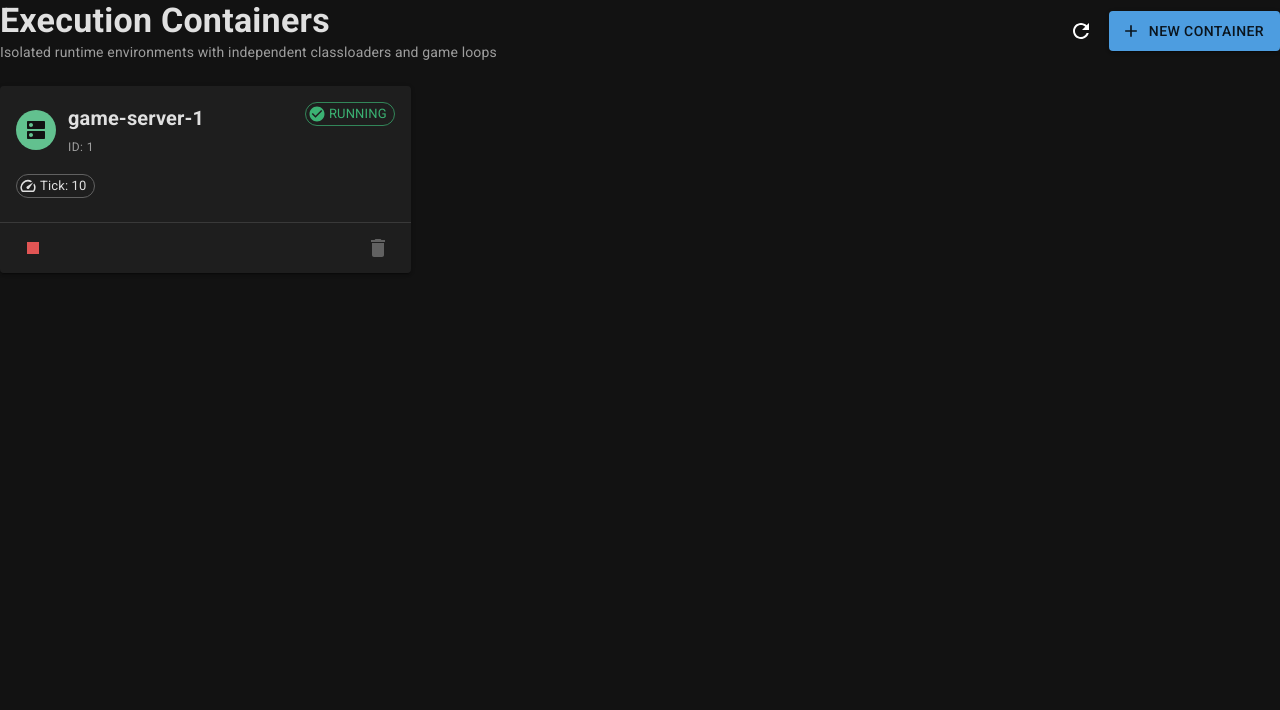
Test: ContainerDashboard › selects container when card is clicked
Click the text "game-server-1".
click(136, 118)  # box [68, 102, 204, 134]
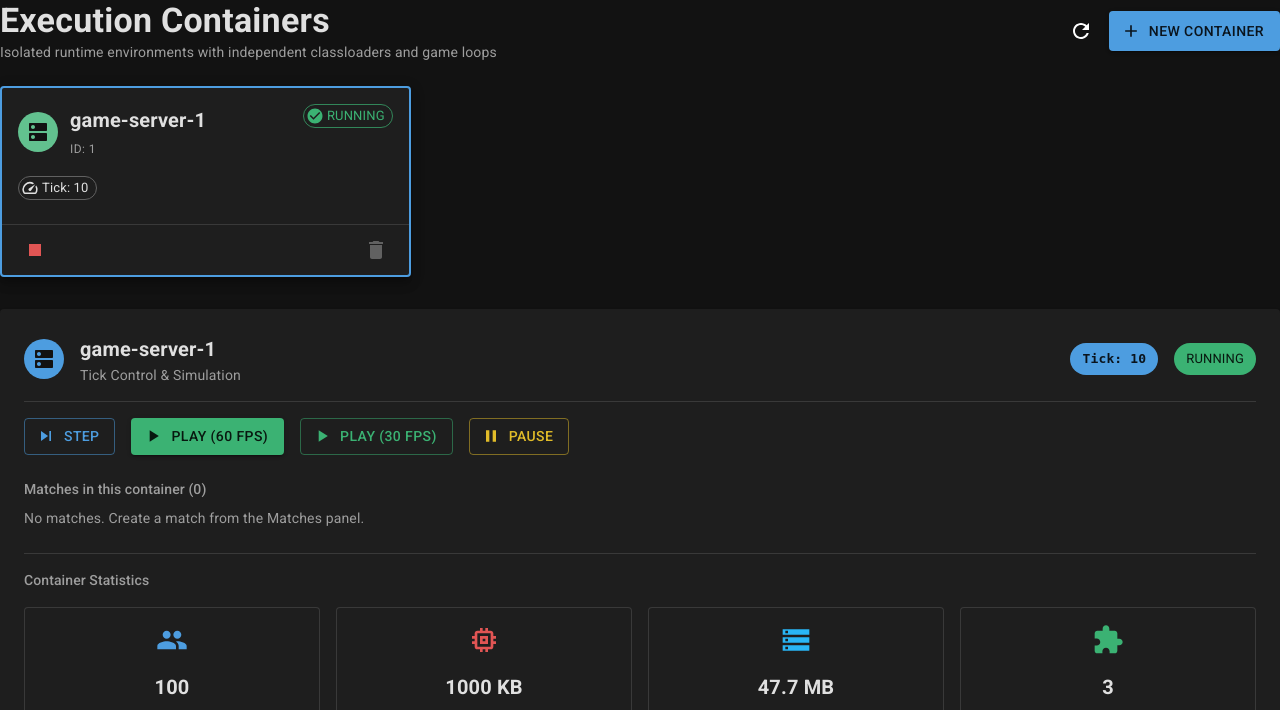
Expected: the text "Tick Control & Simulation" is shown, [80, 365, 241, 385]
